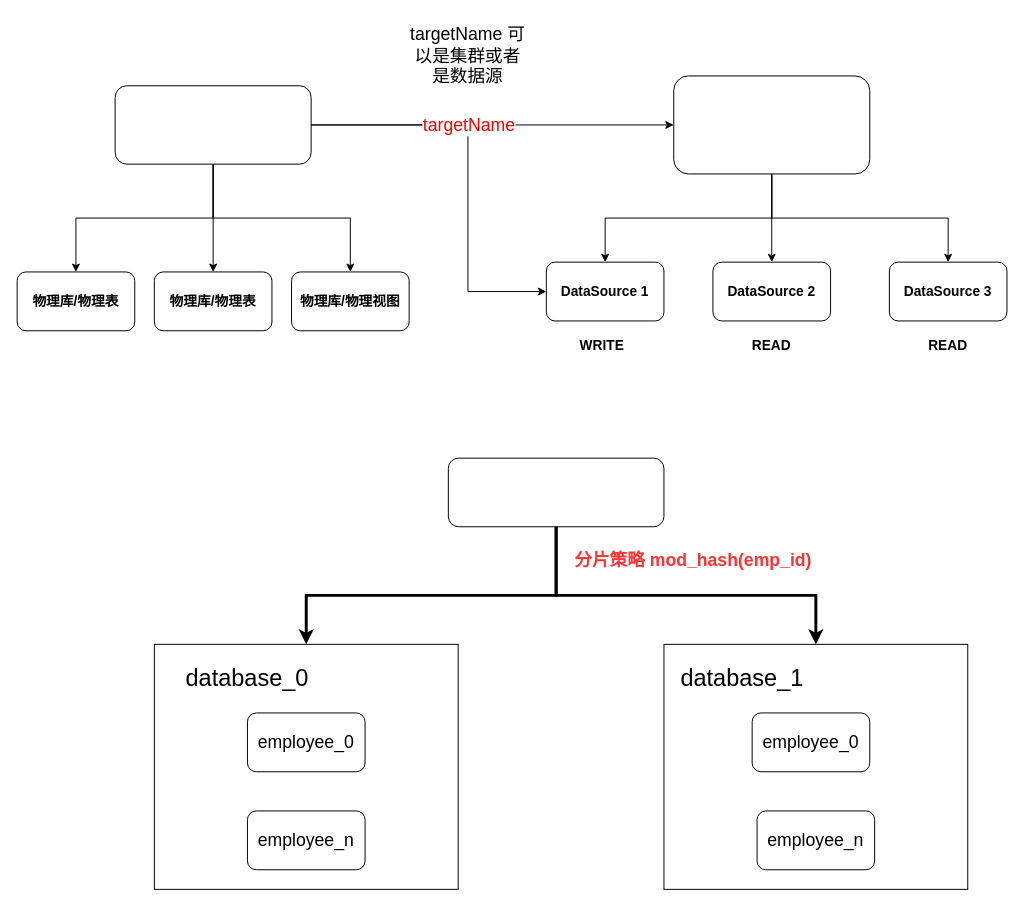
Some shapes in this 1024 by 907 pixel diagram are drawn without their labels. Each missing label, with the box of its shape:
cluster: (673, 75, 870, 174)
employee: (447, 457, 664, 527)
逻辑库/逻辑表 schema: (114, 85, 311, 164)
